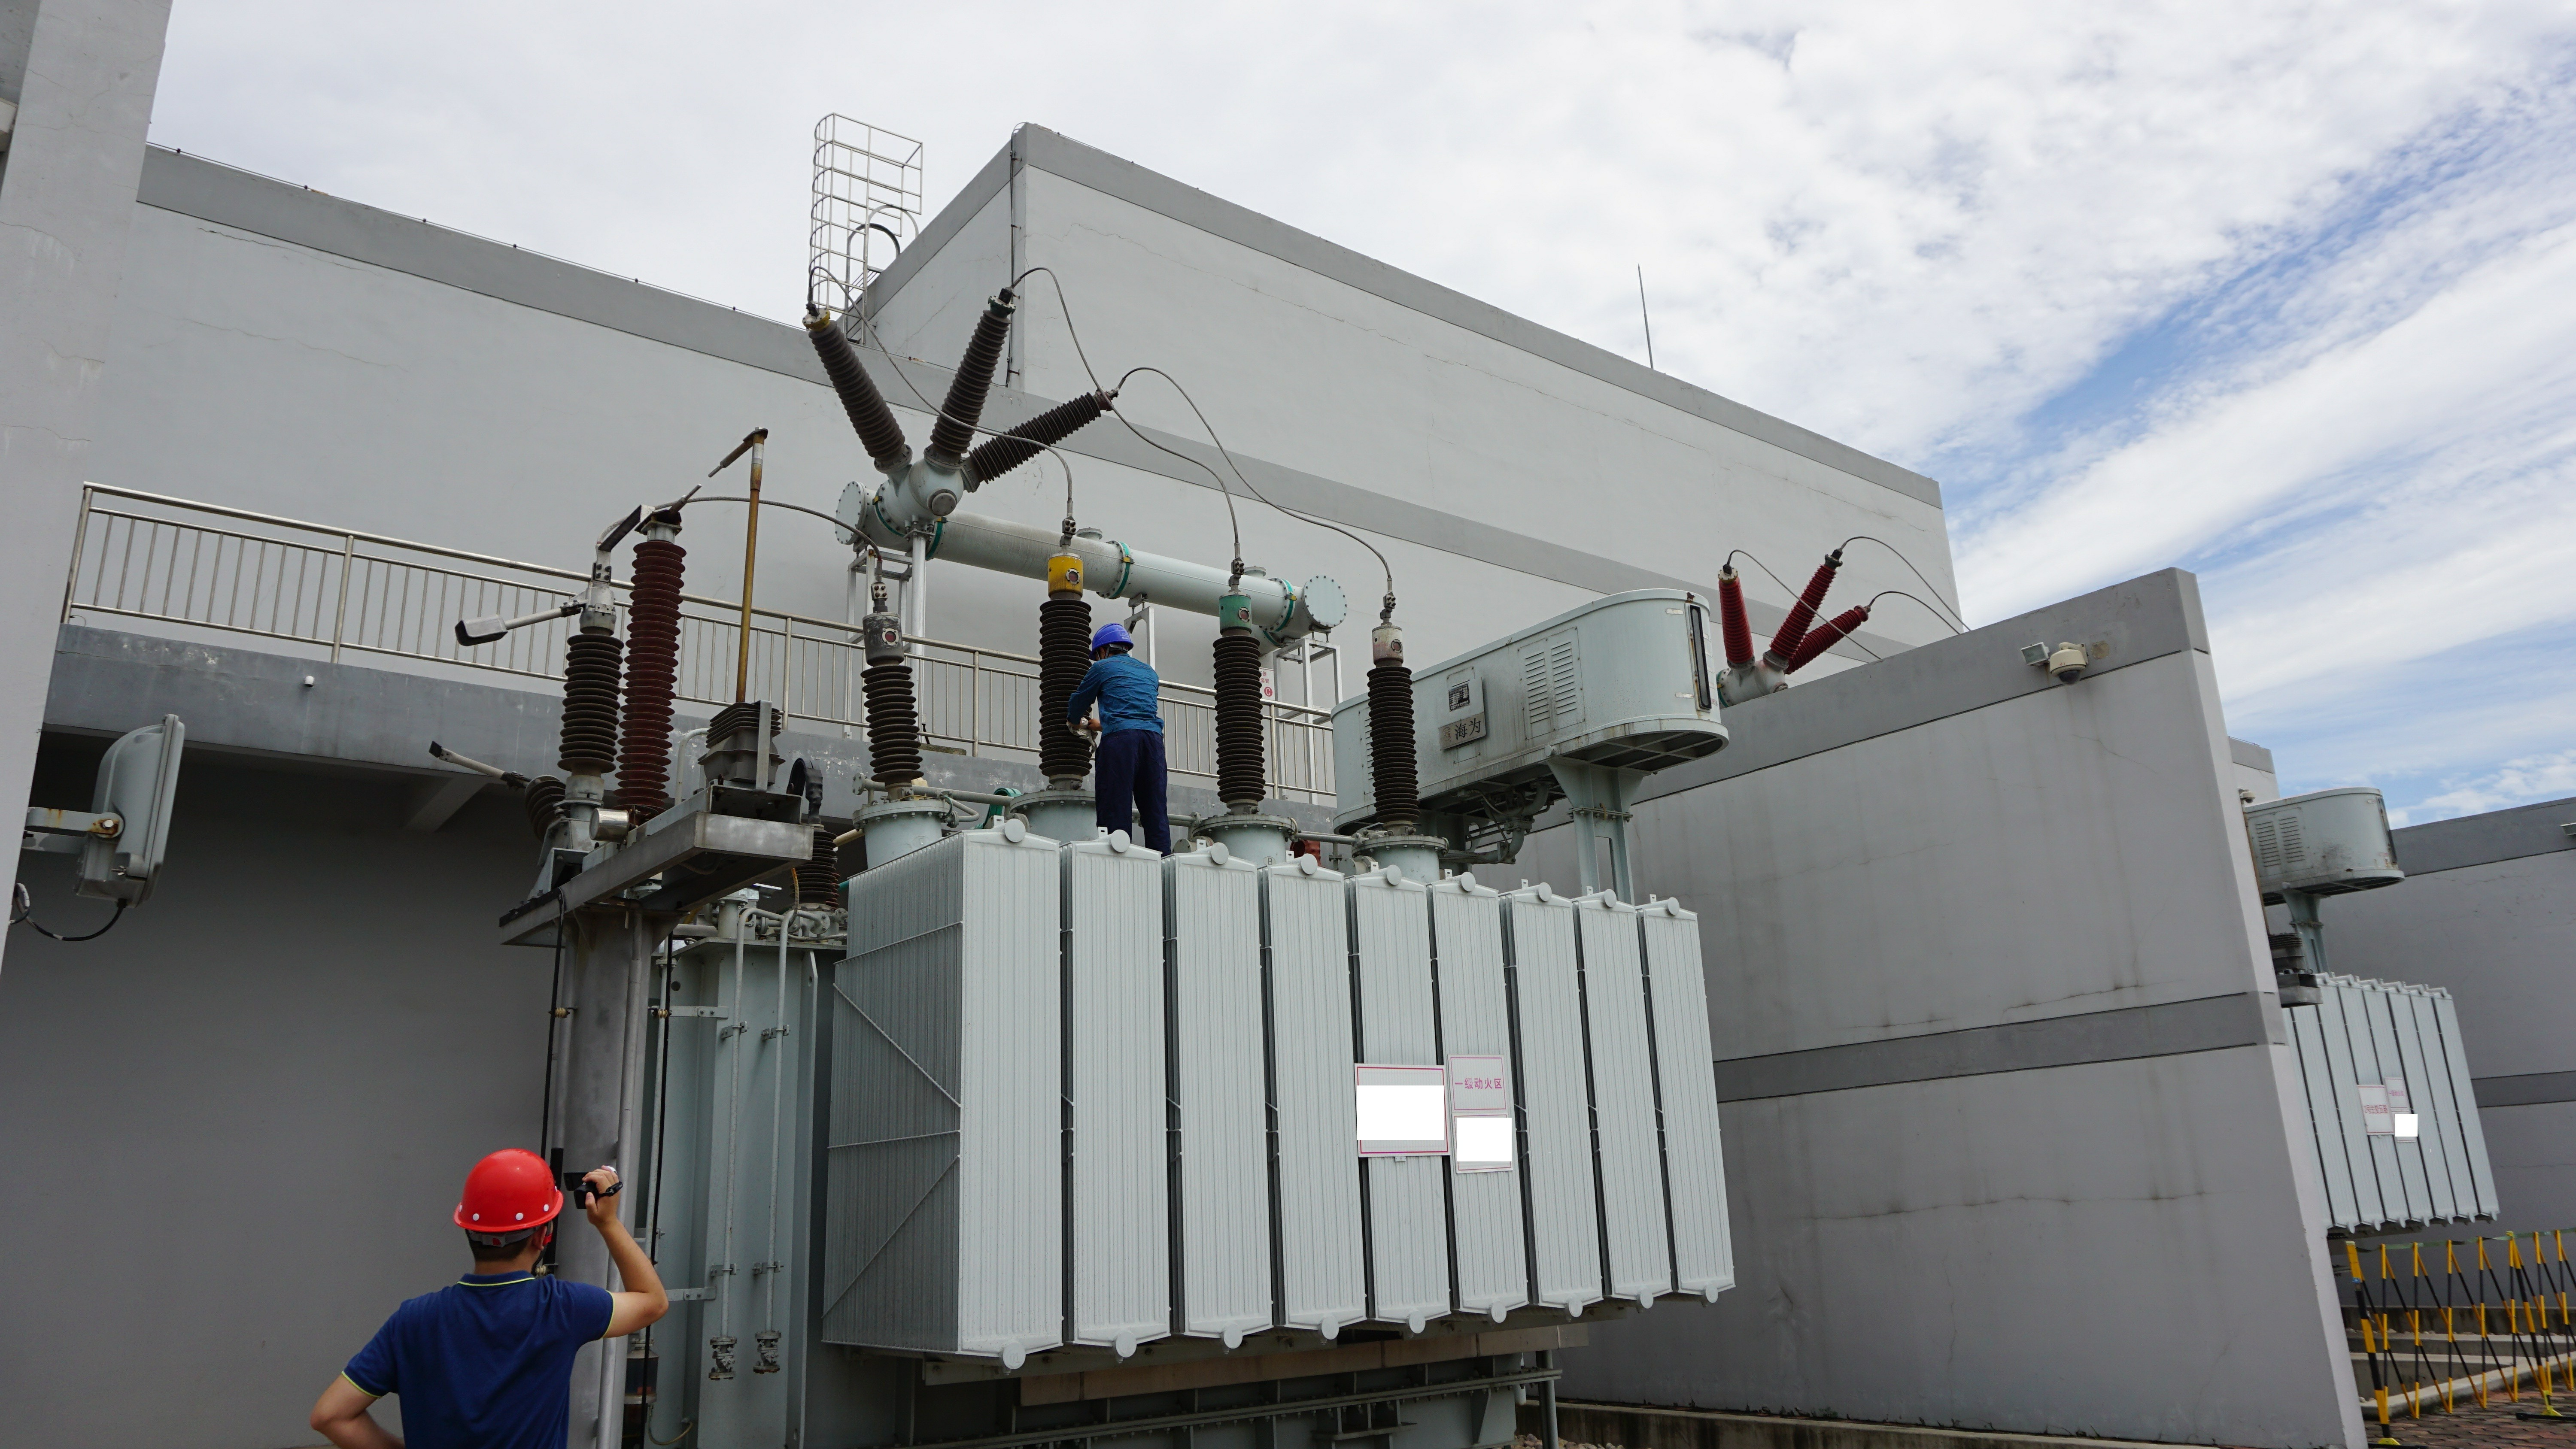hat: (446, 1139, 573, 1281), (1083, 612, 1138, 665)
